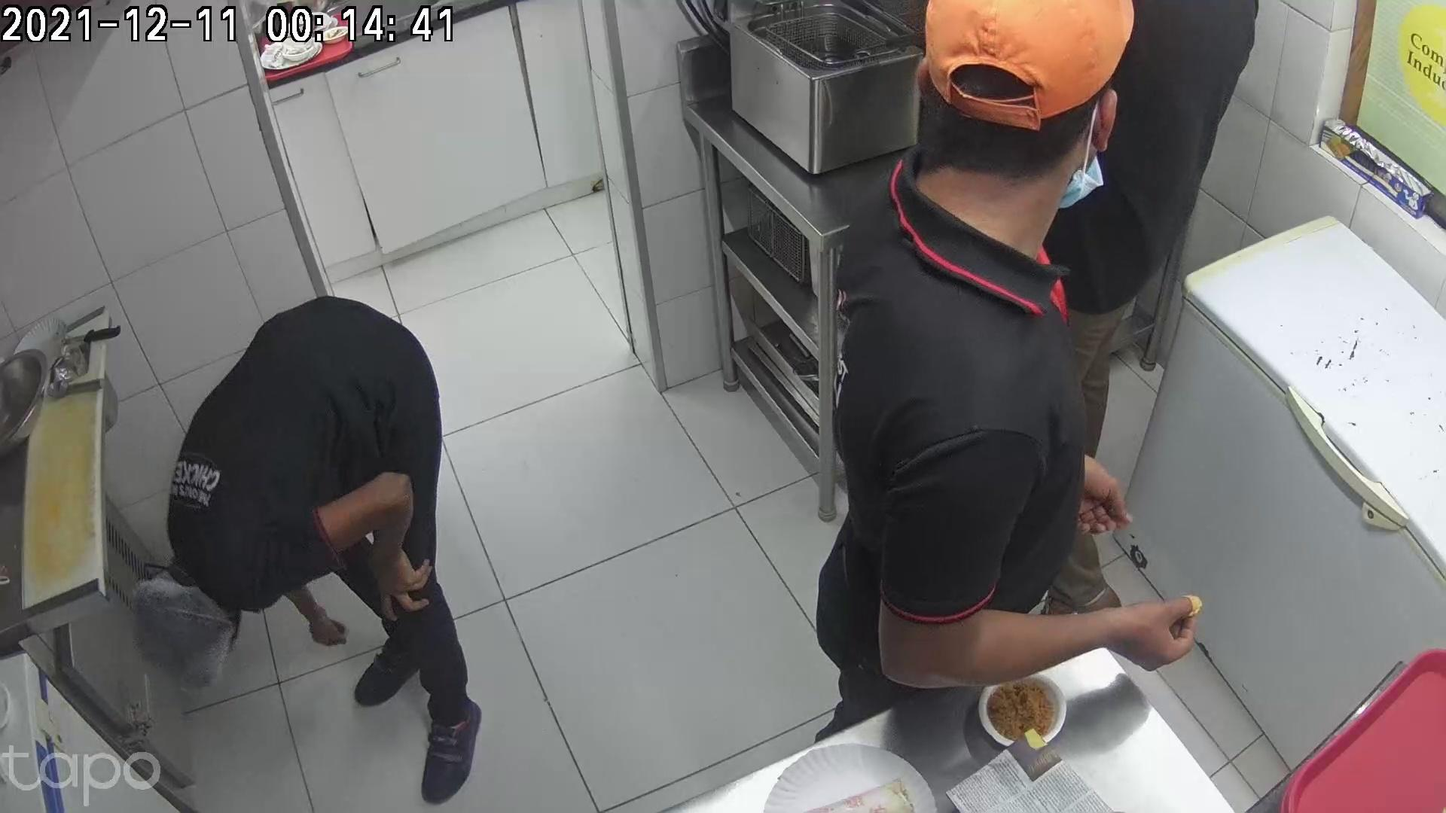no_gloves: (23, 161, 102, 308)
